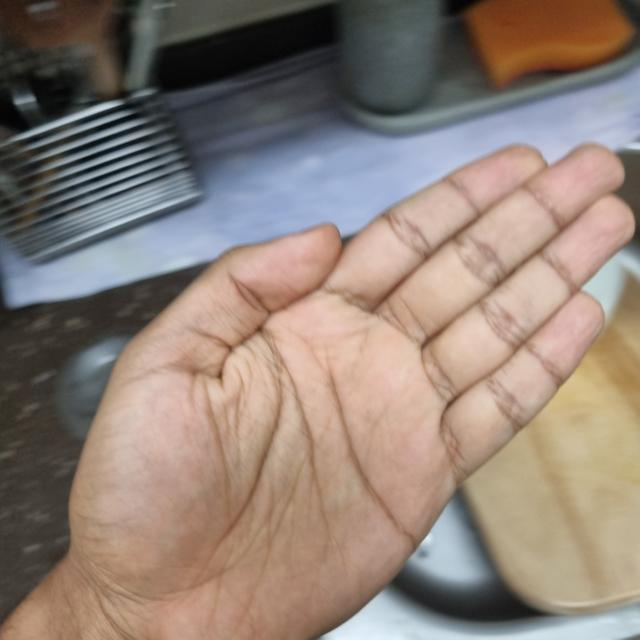Paper: (66, 143, 635, 638)
